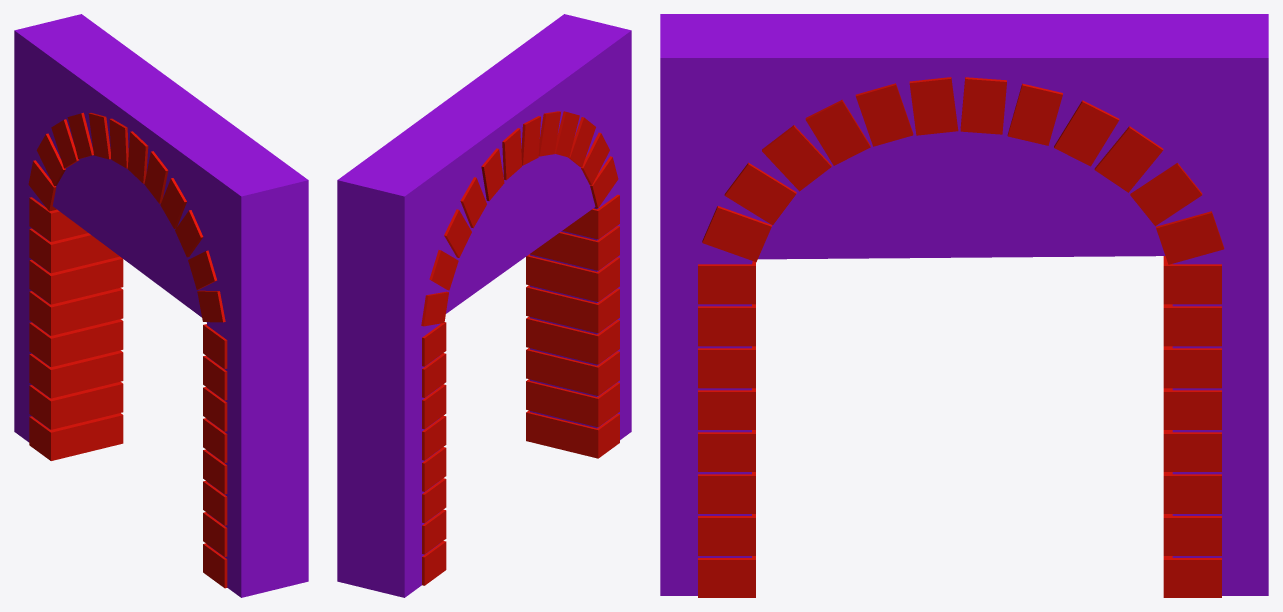
Rendered from Arch Way.fbx.
The picture shows the model from 3 angles, left to right: view 1: azimuth 30°, elevation 25°; view 2: azimuth 150°, elevation 25°; view 3: azimuth 270°, elevation 25°; orthographic projection. The views are drawn at different scales.
Visible parts, largest first — view 1: Arch Way; view 2: Arch Way; view 3: Arch Way.
Part boxes in pixels (bbox=[...]): Arch Way: bbox=[14, 14, 308, 597]; Arch Way: bbox=[337, 14, 631, 597]; Arch Way: bbox=[660, 14, 1268, 597].
Size of the model in its own units: 0.1828 by 0.9683 by 0.9922.
